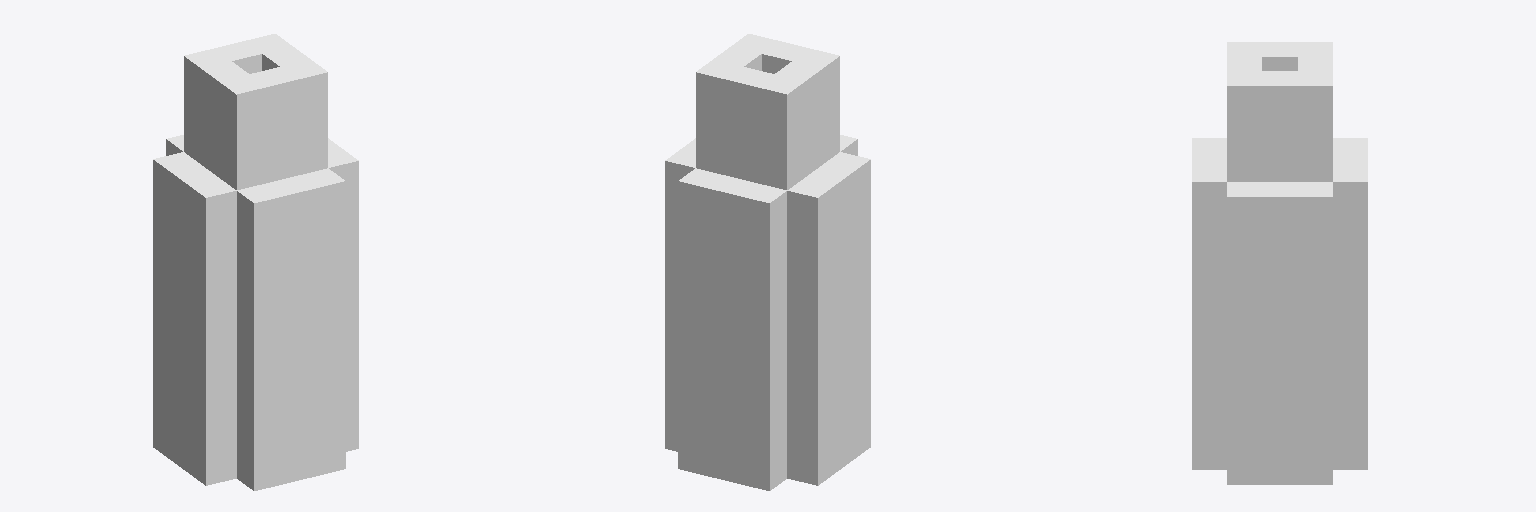
File: vinaigre.obj
3 renders of one model, left to right at view 1: azimuth 30°, elevation 25°; view 2: azimuth 150°, elevation 25°; view 3: azimuth 270°, elevation 25°, orthographic.
Parts seen in each view (by area): view 1: vinaigre; view 2: vinaigre; view 3: vinaigre.
Boxes of the visible parts, x1,y1,x2,y2 form: vinaigre: [153, 34, 358, 490]; vinaigre: [665, 34, 870, 490]; vinaigre: [1192, 42, 1367, 484].
Bounding box in the file's own units: 5 × 12 × 5.